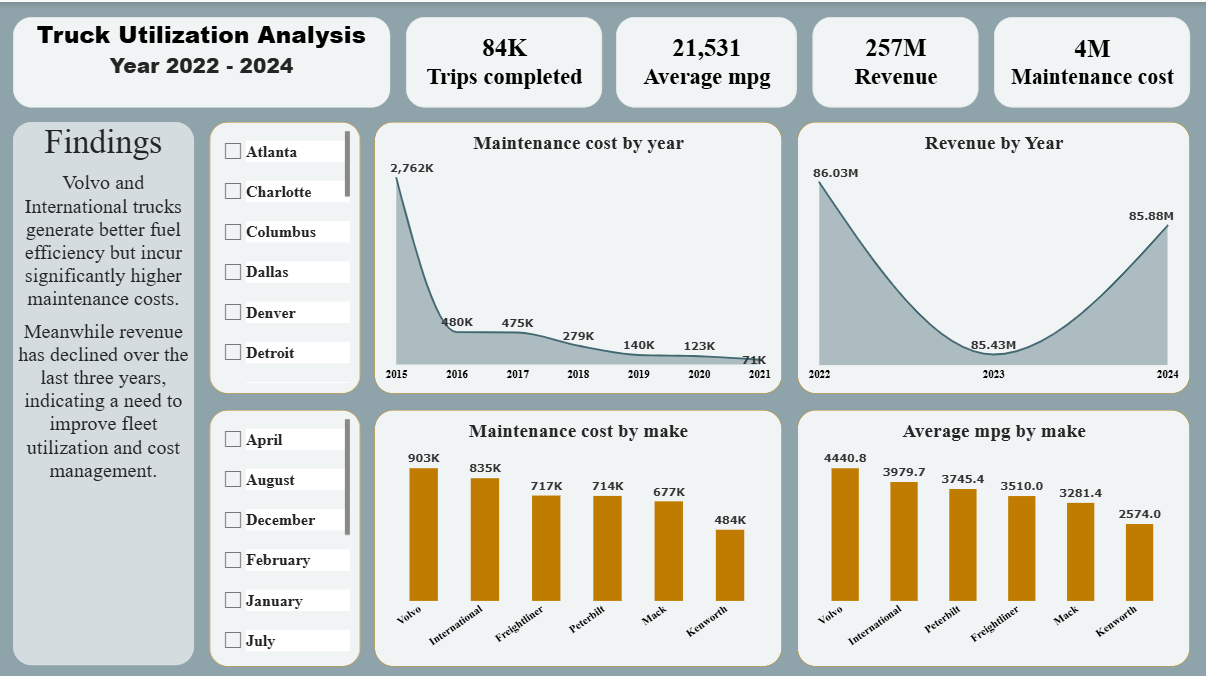

This screenshot's page, from the dashboard's own definition file:
{"tool":"powerbi","page":{"name":"Truck utilization metrics","canvas":[1920,1080],"ordinal":2},"visuals":[{"type":"columnChart","title":"Maintenance cost by make","fields":{"Category":["trucks.make"],"Y":["Sum(truck_utilization_metrics.maintenance_cost)"]},"box":[600,648,648,408],"z":0},{"type":"lineChart","title":"Maintenance cost by year ","fields":{"Category":["trucks.model_year"],"Y":["Sum(truck_utilization_metrics.maintenance_cost)"]},"box":[600,192,648,432],"z":1000},{"type":"columnChart","title":"Average mpg by make","fields":{"Category":["trucks.make"],"Y":["Sum(truck_utilization_metrics.average_mpg)"]},"box":[1272,648,624,408],"z":2000},{"type":"lineChart","title":" Revenue by Year","fields":{"Category":["truck_utilization_metrics.Year"],"Y":["Sum(truck_utilization_metrics.total_revenue)"]},"box":[1272,192,624,432],"z":3000},{"type":"slicer","fields":{"Values":["trucks.home_terminal"]},"box":[336,192,240,432],"z":4000},{"type":"slicer","fields":{"Values":["truck_utilization_metrics.Month Name"]},"box":[336,648,240,408],"z":5000},{"type":"cardVisual","title":"Maintenance cost","fields":{"Data":["Sum(truck_utilization_metrics.maintenance_cost)"]},"box":[1584,24,312,144],"z":6000},{"type":"cardVisual","fields":{"Data":["Sum(truck_utilization_metrics.total_revenue)"]},"box":[1296,24,264,144],"z":7000},{"type":"cardVisual","fields":{"Data":["Sum(truck_utilization_metrics.average_mpg)"]},"box":[984,24,288,144],"z":8000},{"type":"cardVisual","fields":{"Data":["Sum(truck_utilization_metrics.trips_completed)"]},"box":[648,24,312,144],"z":9000},{"type":"textbox","box":[24,24,600,144],"z":10000},{"type":"textbox","box":[24,192,288,864],"z":11000}]}

Visuals, with their boxes in screenshot pixels (x1, y1, x2, y2), scaled from the page's 1920x1080 canvas onto the 1206x676 screenshot:
"Maintenance cost by make" columnChart: <bbox>377, 406, 784, 661</bbox>
"Maintenance cost by year " lineChart: <bbox>377, 120, 784, 391</bbox>
"Average mpg by make" columnChart: <bbox>799, 406, 1191, 661</bbox>
" Revenue by Year" lineChart: <bbox>799, 120, 1191, 391</bbox>
slicer - trucks.home_terminal: <bbox>211, 120, 362, 391</bbox>
slicer - truck_utilization_metrics.Month Name: <bbox>211, 406, 362, 661</bbox>
"Maintenance cost" cardVisual: <bbox>995, 15, 1191, 105</bbox>
cardVisual - Sum(truck_utilization_metrics.total_revenue): <bbox>814, 15, 980, 105</bbox>
cardVisual - Sum(truck_utilization_metrics.average_mpg): <bbox>618, 15, 799, 105</bbox>
cardVisual - Sum(truck_utilization_metrics.trips_completed): <bbox>407, 15, 603, 105</bbox>
textbox: <bbox>15, 15, 392, 105</bbox>
textbox: <bbox>15, 120, 196, 661</bbox>
